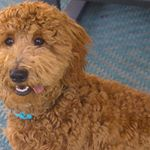puppy: (1, 1, 91, 150)
